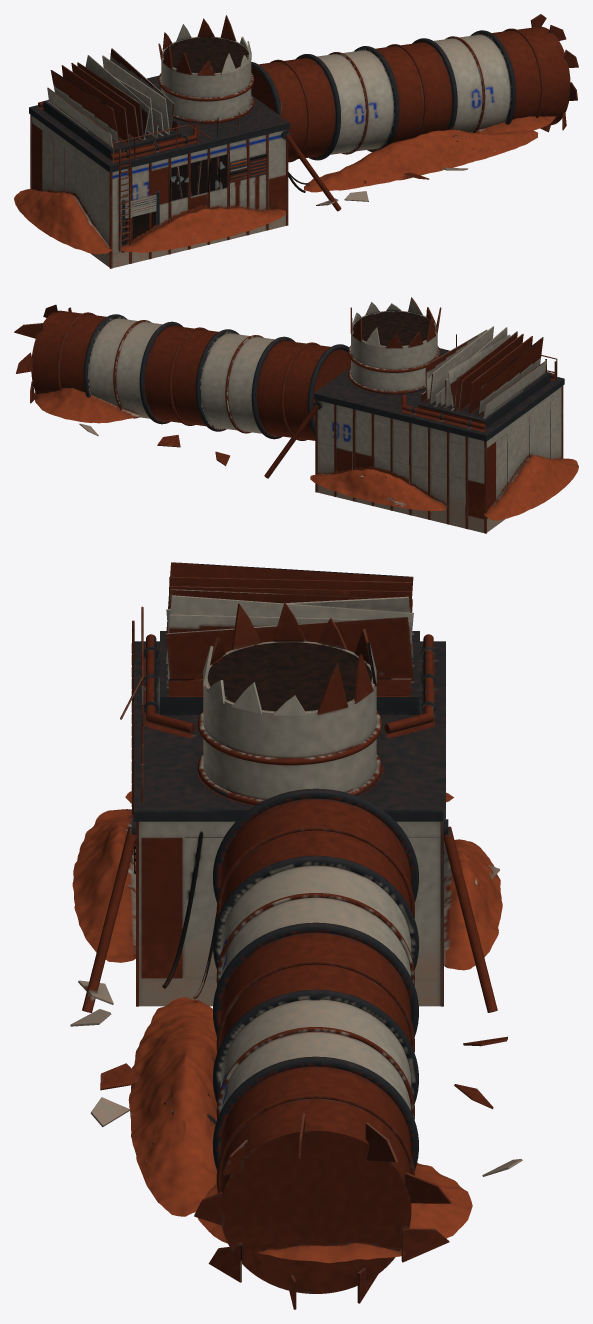
File: wrecked_terraformer.glb
The picture shows the model from 3 angles, top to bottom: view 1: azimuth 30°, elevation 25°; view 2: azimuth 150°, elevation 25°; view 3: azimuth 270°, elevation 25°; orthographic projection. The views are drawn at different scales.
Parts seen in each view (by area): view 1: wrecked_terraformer; view 2: wrecked_terraformer; view 3: wrecked_terraformer.
Part boxes in pixels (x1,y1,x2,y2): wrecked_terraformer: (14,14,578,268); wrecked_terraformer: (14,297,578,533); wrecked_terraformer: (70,562,522,1309).
Bounding box in the file's own units: 27.44 × 9.04 × 10.43.
Materials: 4 (4 with a texture image).
